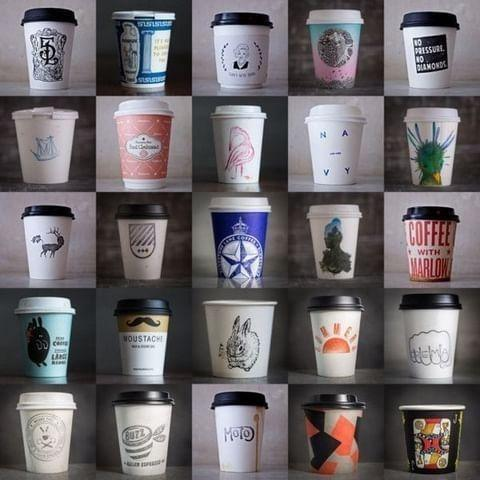cup-disposable: (201, 295, 282, 383), (396, 290, 465, 387), (107, 386, 179, 478), (206, 193, 276, 287), (299, 392, 370, 479), (113, 99, 179, 191), (13, 388, 81, 477), (10, 105, 82, 188), (208, 6, 279, 90), (397, 6, 466, 92), (301, 7, 371, 91), (114, 9, 181, 96), (12, 294, 78, 382), (17, 4, 83, 92), (112, 295, 177, 381), (303, 292, 366, 380), (207, 103, 270, 190), (304, 102, 368, 187), (208, 389, 270, 476), (301, 200, 365, 284), (400, 203, 462, 286), (402, 106, 462, 191), (401, 399, 466, 475), (18, 201, 77, 283), (113, 201, 171, 281)
